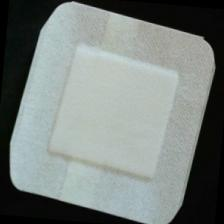Dressing: (1, 1, 224, 224)
